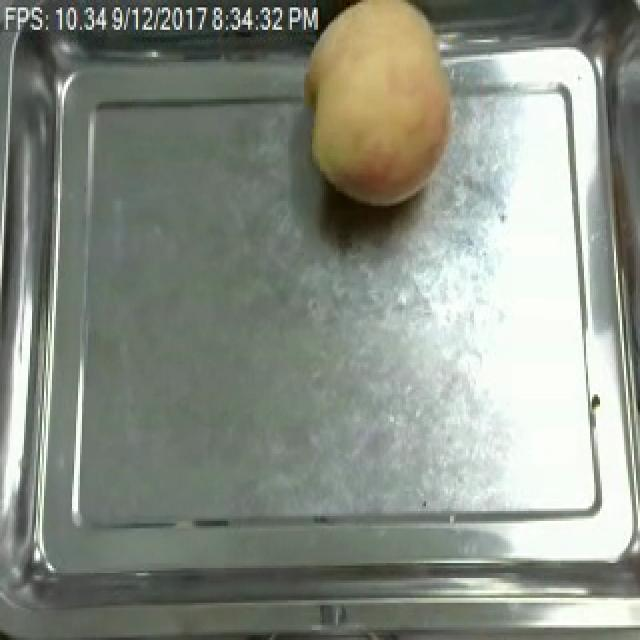Fruit: (294, 0, 470, 216)
